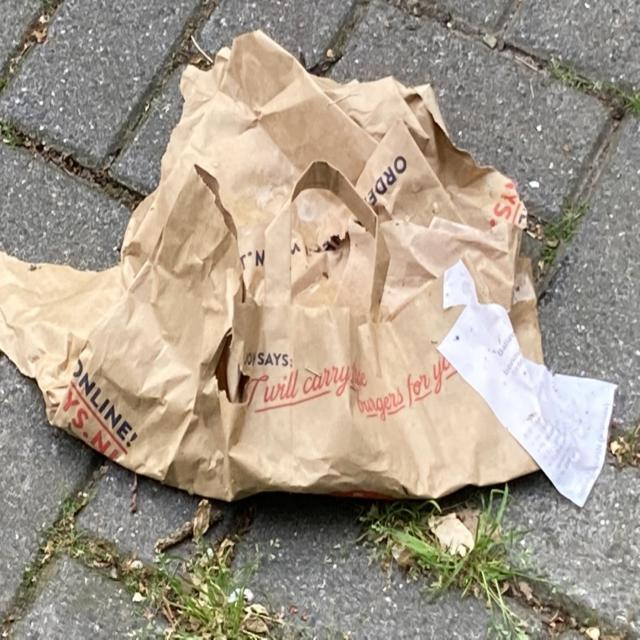Paper: (0, 27, 551, 504)
